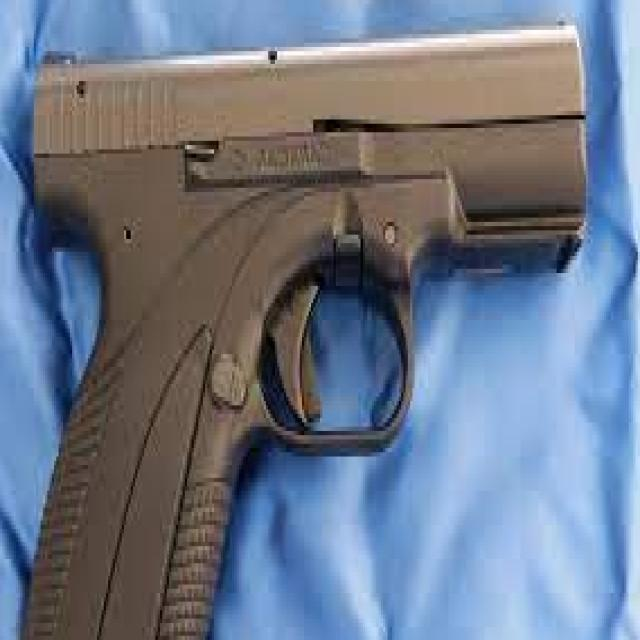Gun: (0, 0, 591, 640)
